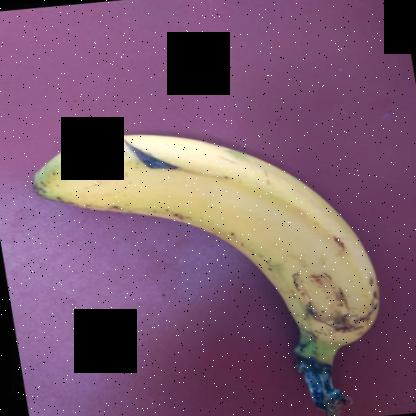ripe: (16, 135, 416, 372)
